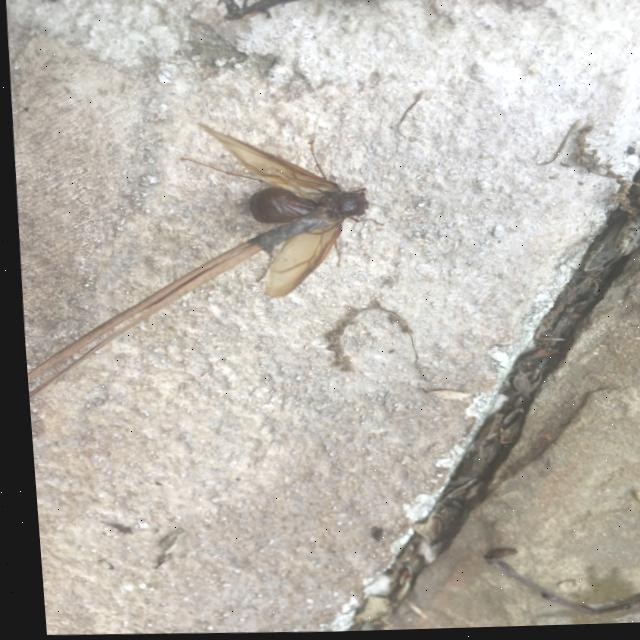Alive-Male-Alate: (174, 118, 387, 303)
